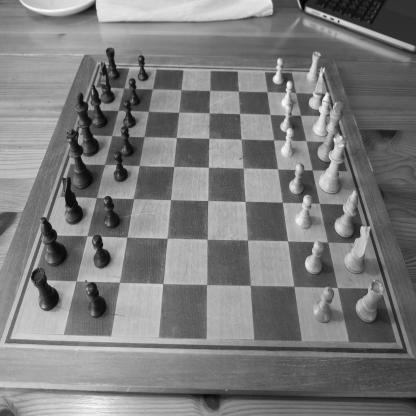black-bishop: (40, 216, 67, 267), (90, 84, 107, 128)
black-king: (74, 92, 100, 157)
black-knight: (62, 176, 83, 225), (99, 62, 115, 104)
black-pawn: (85, 282, 107, 318), (92, 234, 110, 269), (103, 196, 120, 229), (113, 150, 128, 183), (121, 126, 134, 157), (123, 99, 136, 128), (128, 78, 141, 106), (138, 54, 148, 82)
black-queen: (65, 128, 93, 189)
black-rook: (30, 267, 60, 311), (105, 47, 120, 80)
white-bishop: (334, 189, 359, 239), (312, 92, 331, 137)
white-king: (317, 100, 344, 163)
white-knight: (344, 225, 371, 274), (308, 66, 325, 111)
white-pawn: (312, 286, 335, 324), (304, 240, 324, 275), (295, 194, 313, 230), (289, 162, 305, 196), (281, 127, 294, 158), (280, 103, 293, 134), (272, 58, 284, 86), (282, 80, 294, 108)
white-queen: (318, 134, 348, 195)
white-rook: (355, 279, 385, 324), (306, 51, 321, 84)
